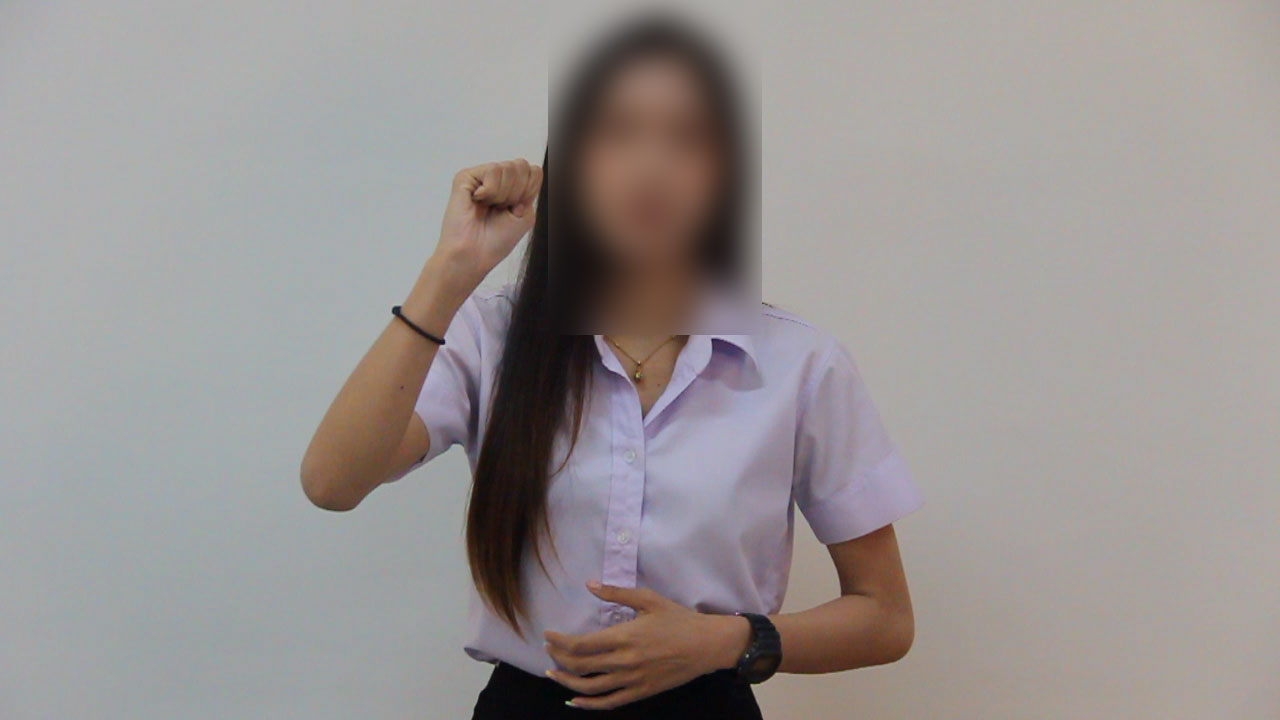sor: (427, 151, 552, 282)
